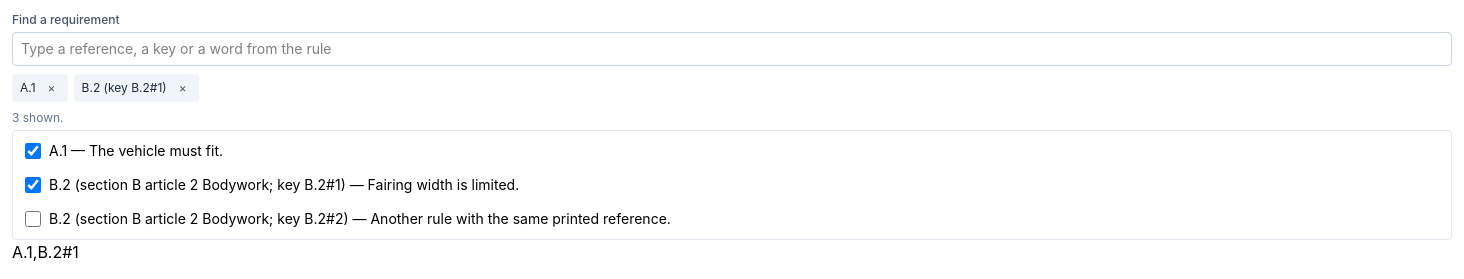
Test: RequirementPicker › removes a chosen requirement from its chip with a labelled button
Click the button named "Remove requirement A.1" at (52, 88), box [40,76,64,100]
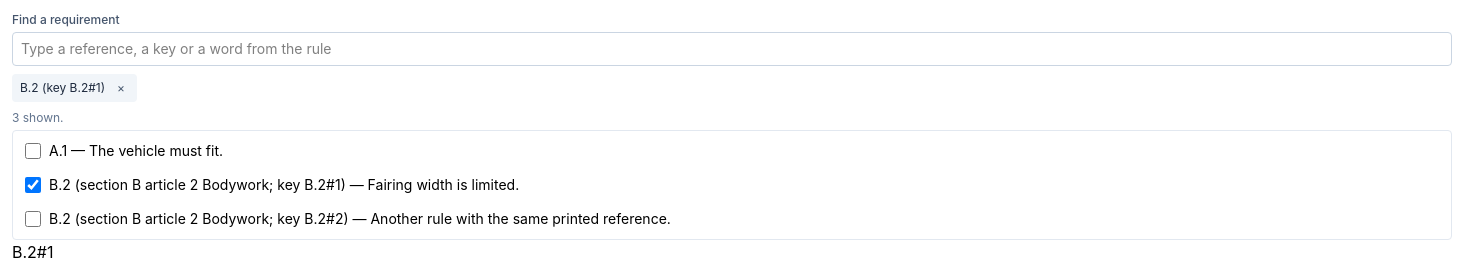
Result: the text with test id "value" reads "B.2#1" at [12,242,54,262]
